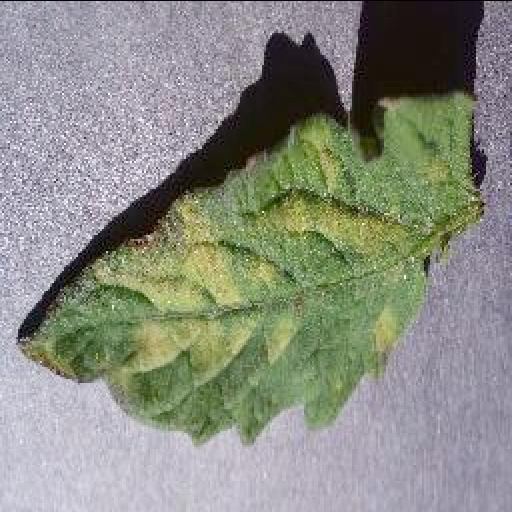disease_tomato: (16, 90, 490, 452)
